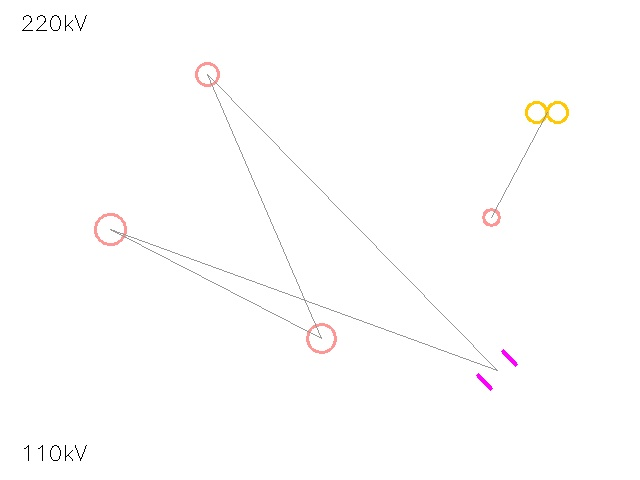capacitor: (468, 341, 526, 399)
current_transformer: (474, 200, 508, 234)
load_break_switch: (185, 52, 229, 96)
transformer_2w: (520, 85, 574, 139)
voltage_transformer: (80, 199, 140, 259), (293, 310, 349, 366)
